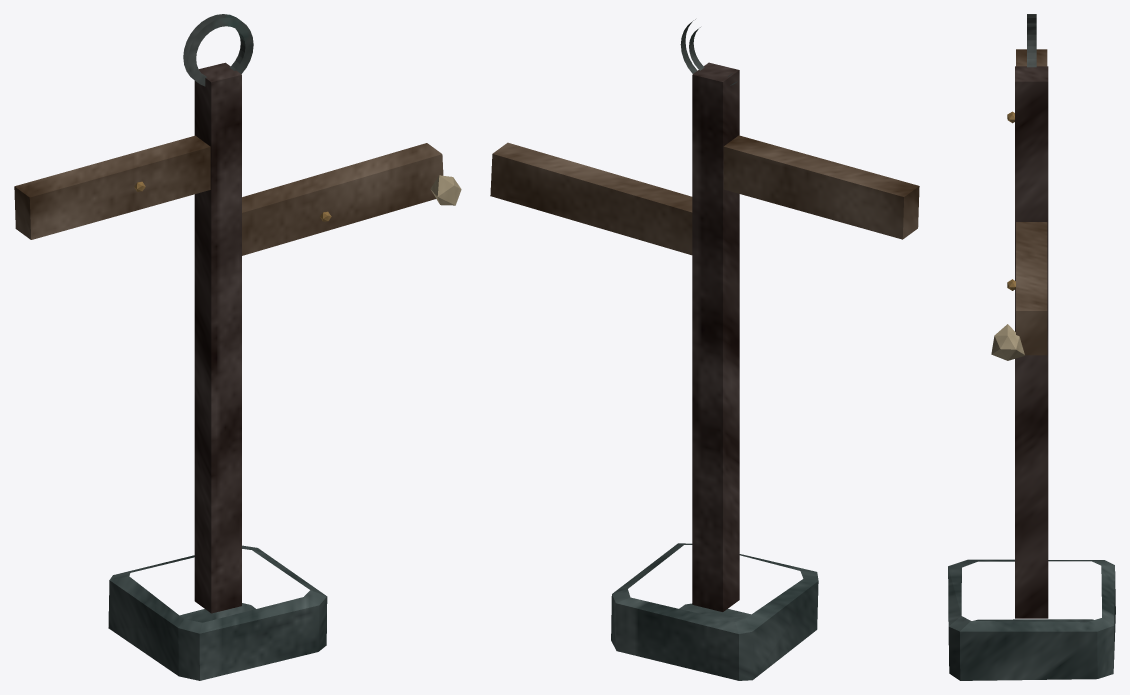
The model's file is 0647_signpost_22.glb.
The picture shows the model from 3 angles, left to right: view 1: azimuth 30°, elevation 25°; view 2: azimuth 150°, elevation 25°; view 3: azimuth 270°, elevation 25°; orthographic projection.
Visible parts, largest first — view 1: wood_dark, wood, stone_dark, iron, bone; view 2: wood_dark, wood, stone_dark; view 3: wood_dark, stone_dark, wood, bone, iron.
Boxes of the visible parts, left/top/right/bottom form: wood_dark: left=194, top=62, right=241, bottom=613; wood: left=14, top=135, right=443, bottom=255; stone_dark: left=108, top=545, right=327, bottom=680; iron: left=183, top=14, right=253, bottom=86; bone: left=430, top=175, right=461, bottom=205; wood_dark: left=692, top=62, right=739, bottom=611; wood: left=490, top=135, right=919, bottom=255; stone_dark: left=611, top=543, right=818, bottom=680; wood_dark: left=1015, top=66, right=1048, bottom=618; stone_dark: left=948, top=559, right=1115, bottom=680; wood: left=1016, top=49, right=1047, bottom=355; bone: left=991, top=324, right=1025, bottom=360; iron: left=1027, top=14, right=1036, bottom=67.
Size of the model in its own units: 2.07 by 2.91 by 0.7008.
6 materials, 6 textured.
